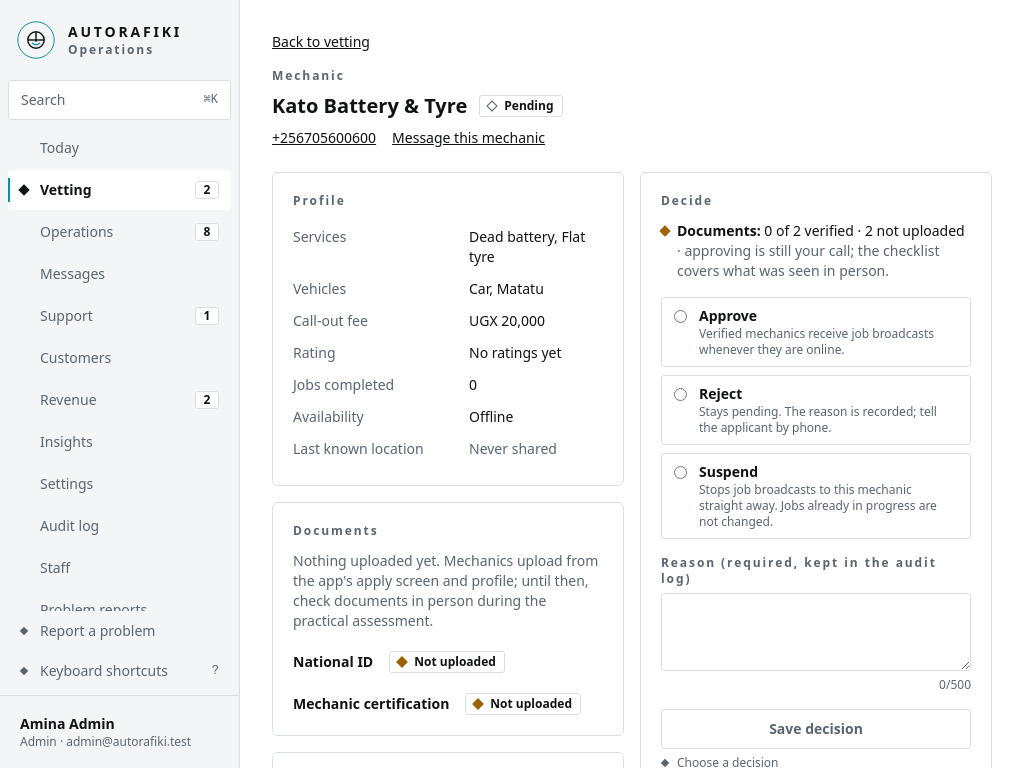
Test case: messages page › opens from a mechanic page with that mechanic chosen
Click the link "Message this mechanic": (469, 138) [392, 128, 545, 148]
(page scrolled)
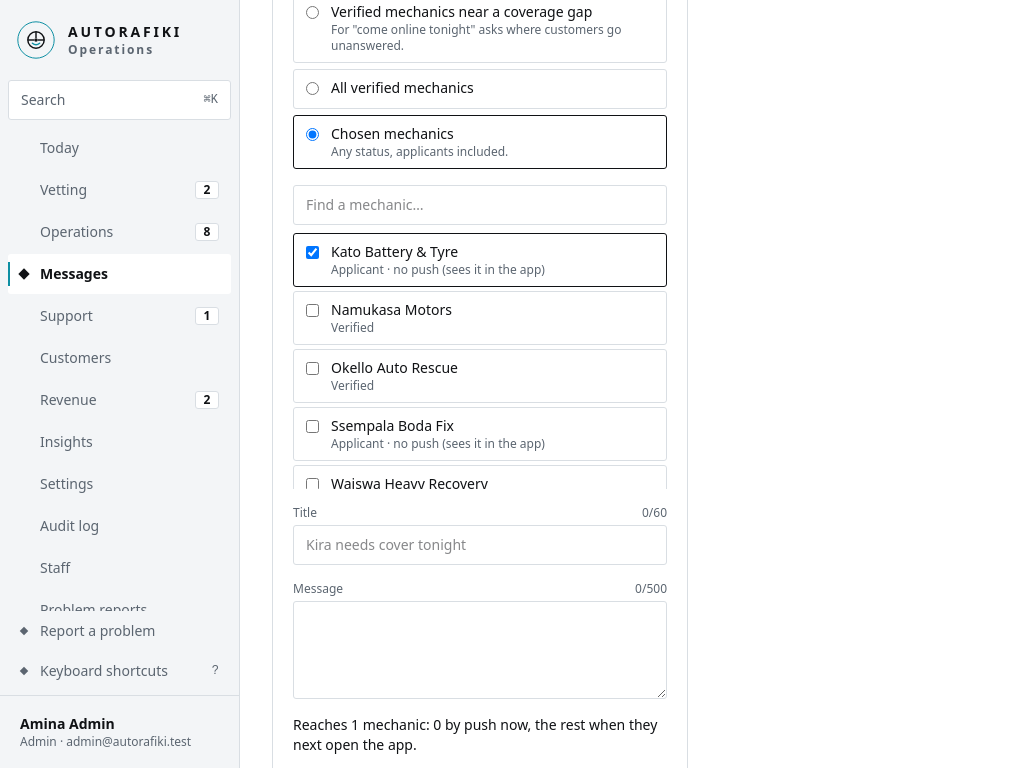
Expected: the radio button labelled "Chosen mechanics Any status, applicants included." is checked, [306, 128, 319, 141]
Expected: the checkbox labelled "Kato Battery & Tyre Applicant · no push (sees it in the app)" is checked, [306, 246, 319, 259]
Expected: the form named "New message to mechanics" shows "Reaches 1 mechanic: 0 by push now", [293, 715, 657, 754]
